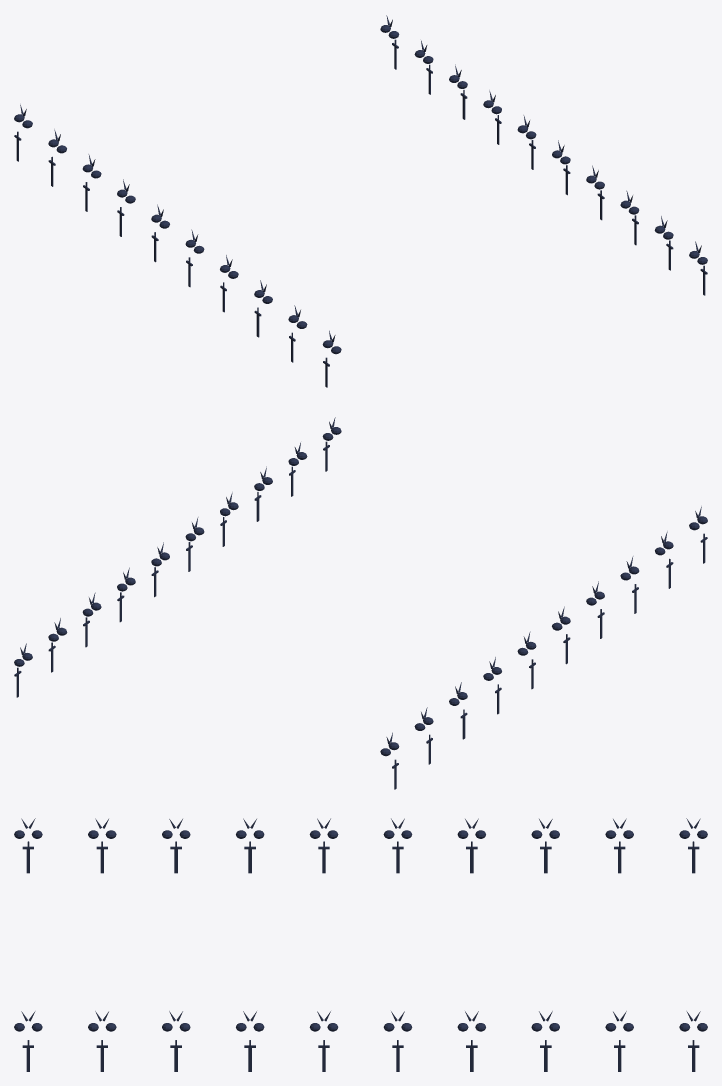
Rendered from ShadowArmy_ShadowEdge.fbx.
3 views of the same model, one above another, from view 1: azimuth 30°, elevation 25°; view 2: azimuth 150°, elevation 25°; view 3: azimuth 270°, elevation 25° (orthographic). The views are drawn at different scales.
Visible parts, largest first — view 1: Soldier-1_0Pauldron-1.001; view 2: Soldier-1_0Pauldron-1.001; view 3: Soldier-1_0Pauldron-1.001.
Part boxes in pixels (left/top/right/bottom): Soldier-1_0Pauldron-1.001: left=14, top=15, right=707, bottom=387; Soldier-1_0Pauldron-1.001: left=14, top=417, right=707, bottom=789; Soldier-1_0Pauldron-1.001: left=14, top=818, right=707, bottom=1071.
Size of the model in its own units: 15312 by 2077 by 22533.
